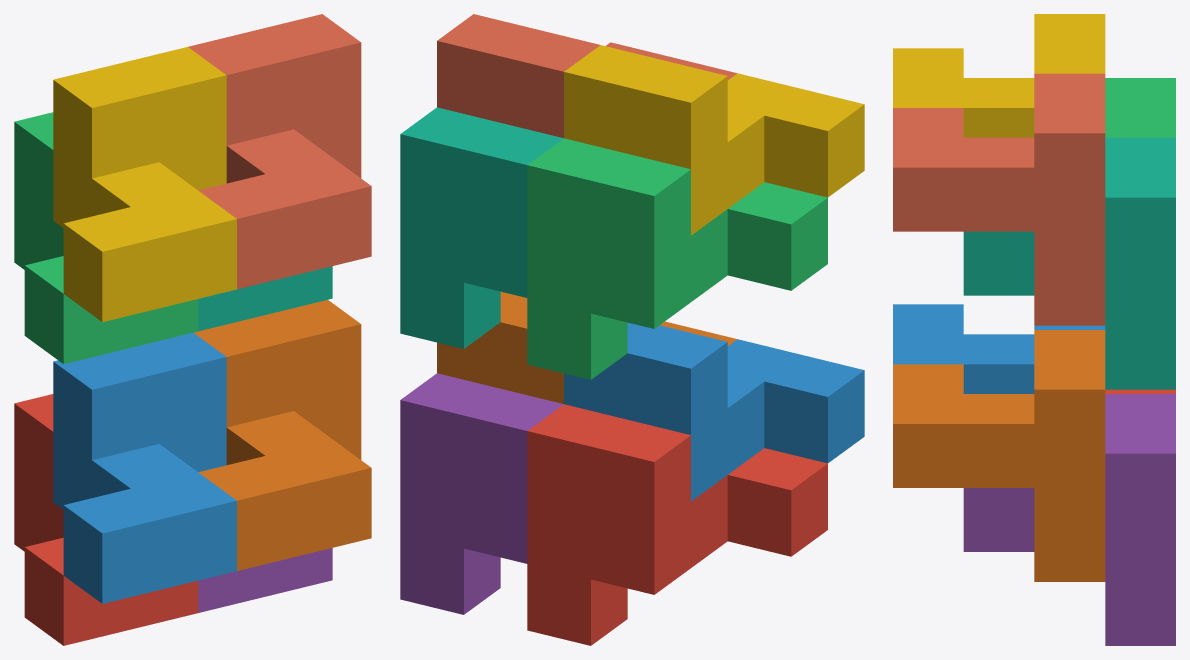
File: tiling.obj
3 renders of one model, left to right at view 1: azimuth 30°, elevation 25°; view 2: azimuth 150°, elevation 25°; view 3: azimuth 270°, elevation 25°, orthographic. The views are drawn at different scales.
Visible parts, largest first — view 1: copy_1_domain_4, copy_1_domain_2, copy_1_domain_8, copy_1_domain_6, copy_1_domain_1, copy_1_domain_3, copy_1_domain_7, copy_1_domain_5; view 2: copy_1_domain_1, copy_1_domain_3, copy_1_domain_4, copy_1_domain_2, copy_1_domain_7, copy_1_domain_5, copy_1_domain_8, copy_1_domain_6; view 3: copy_1_domain_8, copy_1_domain_6, copy_1_domain_7, copy_1_domain_5, copy_1_domain_4, copy_1_domain_2, copy_1_domain_3.
Boxes of the visible parts, <box> form: copy_1_domain_4: <box>53,47,236,322</box>; copy_1_domain_2: <box>53,332,236,603</box>; copy_1_domain_8: <box>188,14,371,289</box>; copy_1_domain_6: <box>194,300,371,570</box>; copy_1_domain_1: <box>14,394,198,645</box>; copy_1_domain_3: <box>14,112,198,364</box>; copy_1_domain_7: <box>198,266,332,331</box>; copy_1_domain_5: <box>198,548,332,612</box>; copy_1_domain_1: <box>527,404,827,645</box>; copy_1_domain_3: <box>527,138,827,379</box>; copy_1_domain_4: <box>564,45,864,235</box>; copy_1_domain_2: <box>564,322,864,501</box>; copy_1_domain_7: <box>400,107,563,348</box>; copy_1_domain_5: <box>400,373,563,614</box>; copy_1_domain_8: <box>437,14,736,138</box>; copy_1_domain_6: <box>437,291,737,403</box>; copy_1_domain_8: <box>893,73,1105,325</box>; copy_1_domain_6: <box>893,330,1105,581</box>; copy_1_domain_7: <box>963,137,1175,389</box>; copy_1_domain_5: <box>963,394,1175,645</box>; copy_1_domain_4: <box>893,14,1105,137</box>; copy_1_domain_2: <box>893,304,1105,393</box>; copy_1_domain_3: <box>1105,78,1175,137</box>.
Size of the model in its own units: 5 by 8 by 4.
